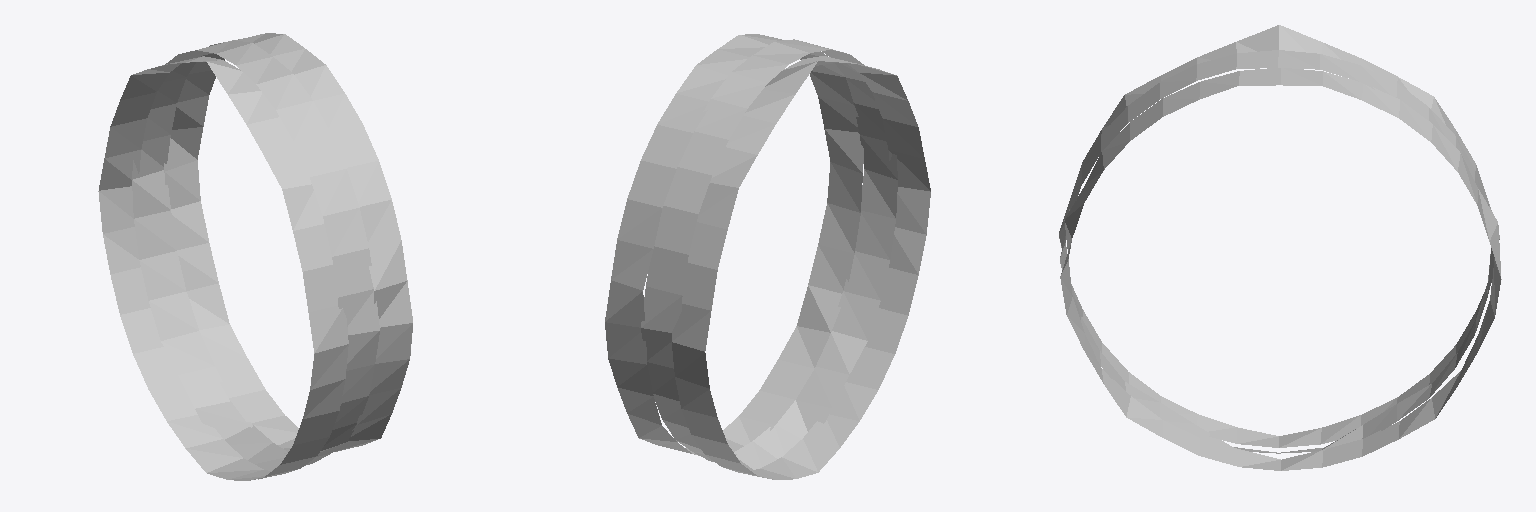
The model's file is rainbow4.obj.
3 views of the same model, side by side, from view 1: azimuth 30°, elevation 25°; view 2: azimuth 150°, elevation 25°; view 3: azimuth 270°, elevation 25° (orthographic).
Parts seen in each view (by area): view 1: Cylinder.001, Cylinder, Cylinder.002; view 2: Cylinder.002, Cylinder.001, Cylinder; view 3: Cylinder.002, Cylinder.001, Cylinder.
Part boxes in pixels (left/top/right/bottom): Cylinder.001: left=132, top=40, right=379, bottom=479; Cylinder: left=98, top=56, right=348, bottom=480; Cylinder.002: left=164, top=33, right=412, bottom=453; Cylinder.002: left=605, top=34, right=863, bottom=455; Cylinder.001: left=641, top=39, right=897, bottom=471; Cylinder: left=672, top=56, right=930, bottom=479; Cylinder.002: left=1060, top=68, right=1501, bottom=470; Cylinder.001: left=1060, top=50, right=1494, bottom=453; Cylinder: left=1059, top=25, right=1499, bottom=447.
Size of the model in its own units: 1.14 by 4.29 by 4.16.